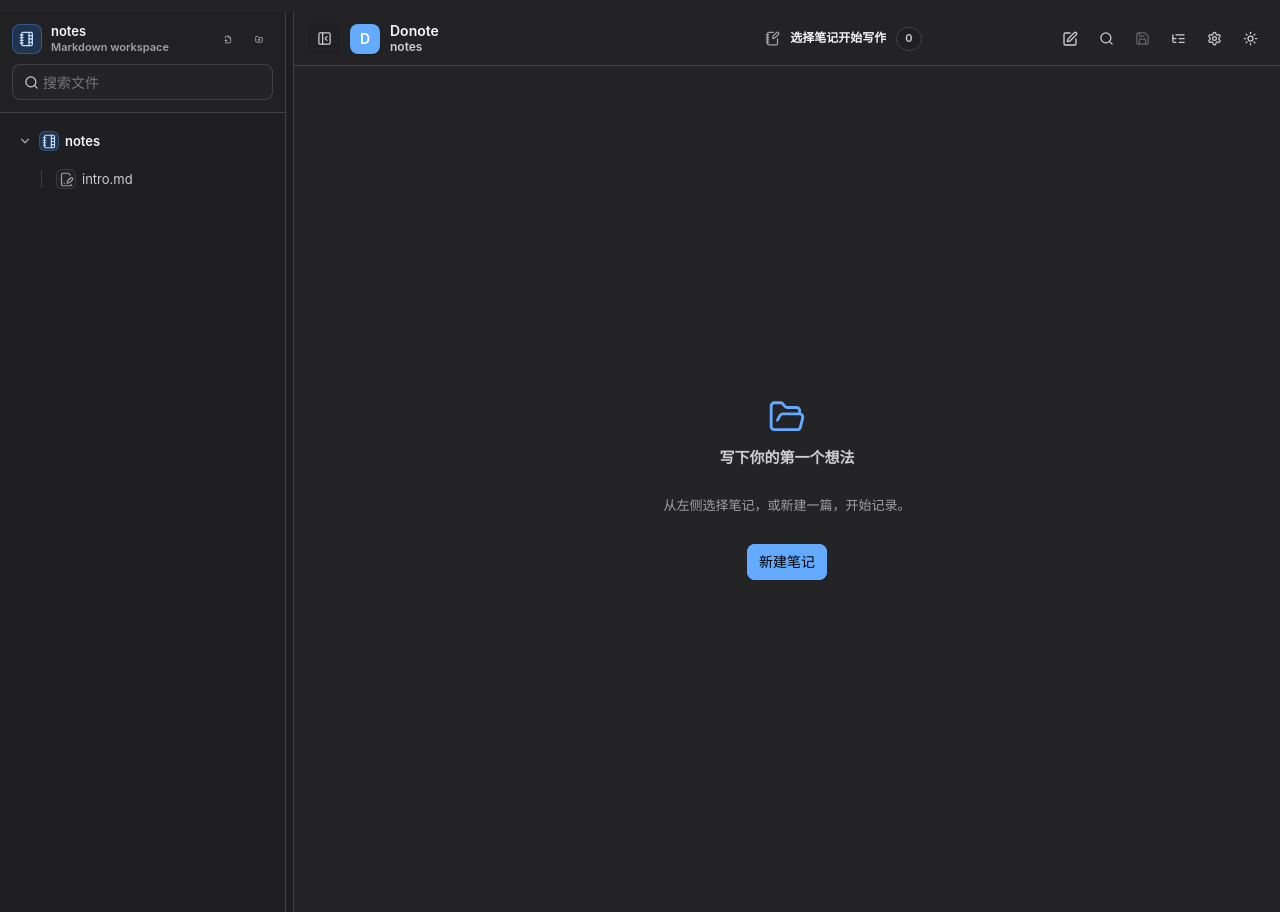
Test case: App shell › stores API errors and shows app feedback error feedback
Click the button with test id "file-intro.md" at (107, 179), box [8,163,277,195]
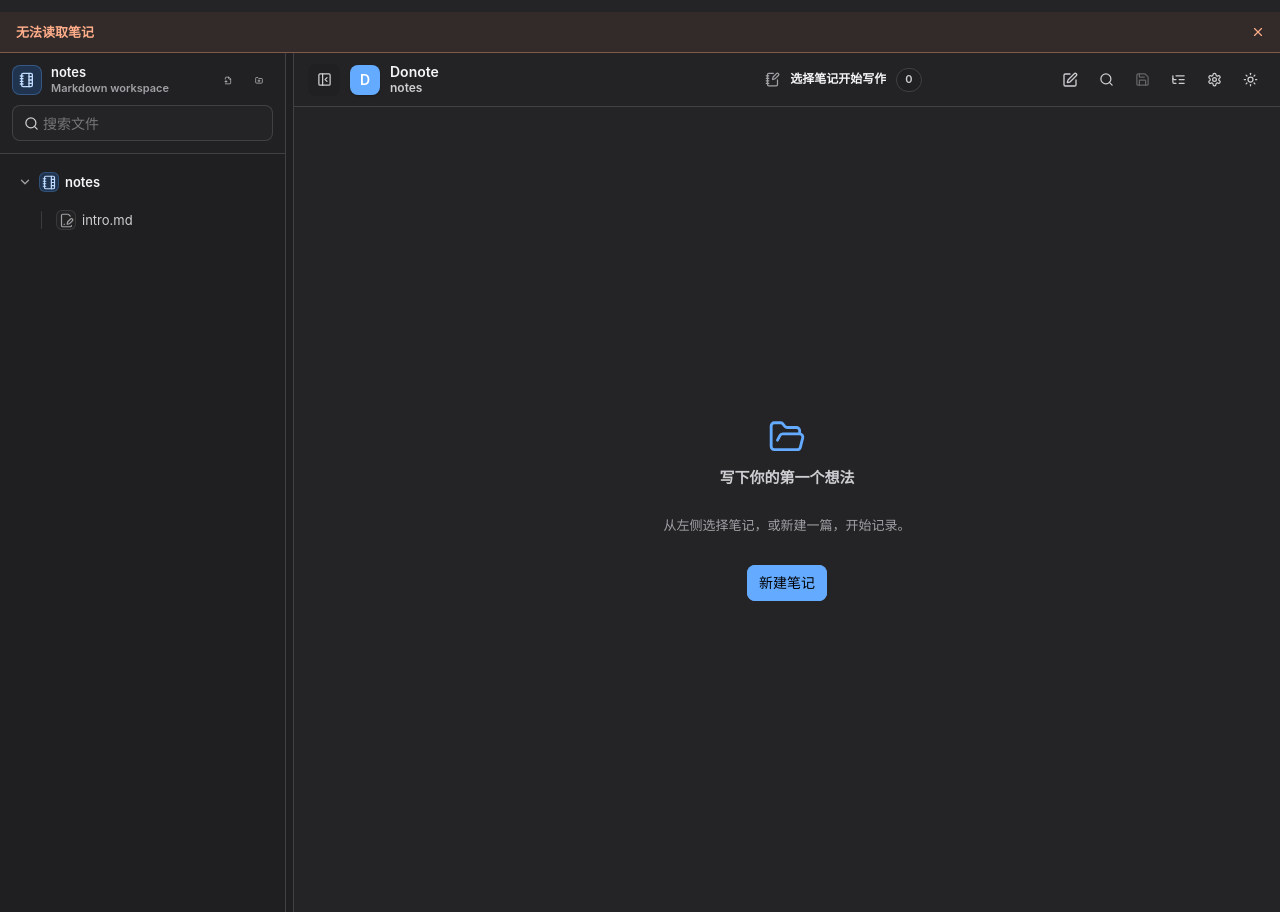
Now the text "无法读取笔记" is shown, box [16,24,94,40]
